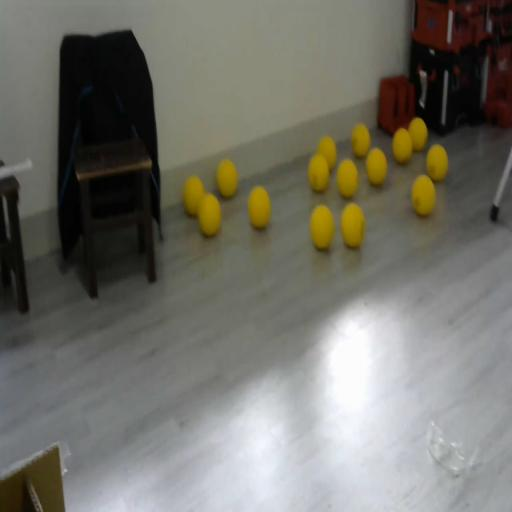FUEL: (310, 202, 335, 250), (340, 202, 366, 248), (410, 173, 436, 217), (247, 185, 272, 230), (198, 192, 222, 237), (182, 174, 206, 216), (336, 158, 359, 198), (365, 146, 388, 186), (216, 158, 238, 198), (426, 143, 448, 182), (392, 127, 413, 164), (317, 135, 337, 171), (408, 116, 428, 152), (352, 123, 370, 157)
